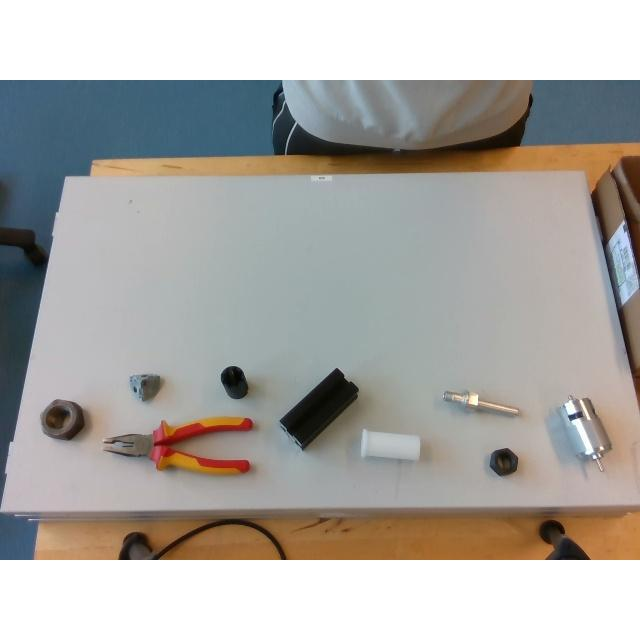M20: (489, 448, 517, 476)
M30: (40, 399, 84, 439)
Motor2: (561, 395, 611, 471)
S40_40_B: (278, 369, 358, 449)
Spacer: (360, 428, 420, 459)
